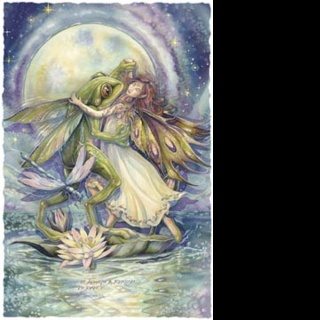without_mask: (125, 80, 144, 99)
